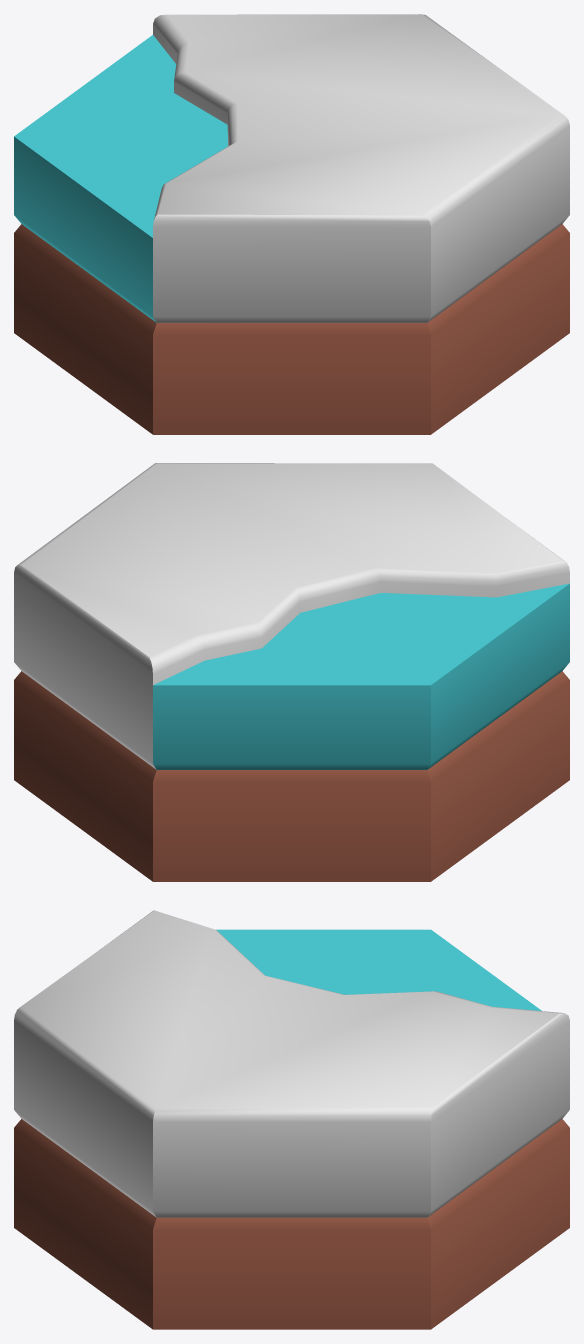
The model's file is hex_snow_waterD_detail.gltf.glb.
3 views of the same model, one above another, from view 1: azimuth 30°, elevation 25°; view 2: azimuth 150°, elevation 25°; view 3: azimuth 270°, elevation 25° (orthographic).
Parts seen in each view (by area): view 1: hex_snow_waterD_detail; view 2: hex_snow_waterD_detail; view 3: hex_snow_waterD_detail.
Part boxes in pixels (x1,y1,x2,y2): hex_snow_waterD_detail: (14, 14, 569, 434); hex_snow_waterD_detail: (14, 463, 569, 881); hex_snow_waterD_detail: (14, 910, 569, 1329).
Size of the model in its own units: 2 by 1 by 2.31.
